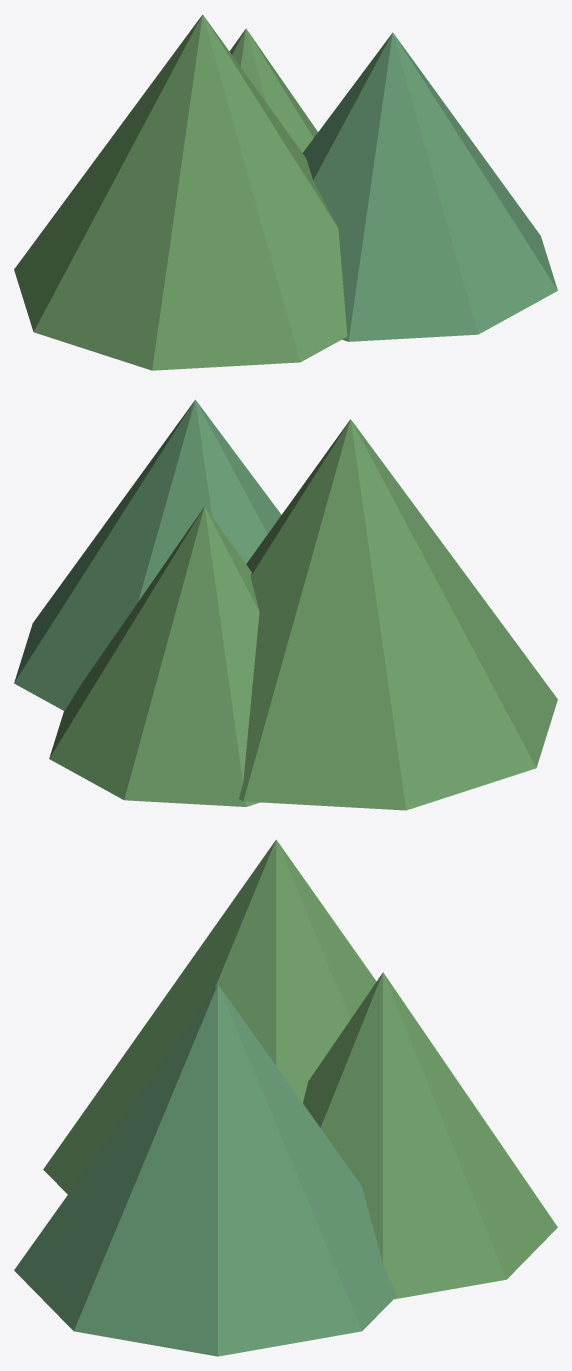
The model's file is mountain_shrub.glb.
The picture shows the model from 3 angles, top to bottom: view 1: azimuth 30°, elevation 25°; view 2: azimuth 150°, elevation 25°; view 3: azimuth 270°, elevation 25°; orthographic projection. The views are drawn at different scales.
Parts seen in each view (by area): view 1: mountain_shrub; view 2: mountain_shrub; view 3: mountain_shrub.
Part boxes in pixels (left/top/right/bottom): mountain_shrub: left=14, top=14, right=557, bottom=370; mountain_shrub: left=14, top=399, right=557, bottom=810; mountain_shrub: left=14, top=839, right=557, bottom=1356.
Size of the model in its own units: 1.37 by 0.765 by 1.12.
2 materials, 2 textured.
